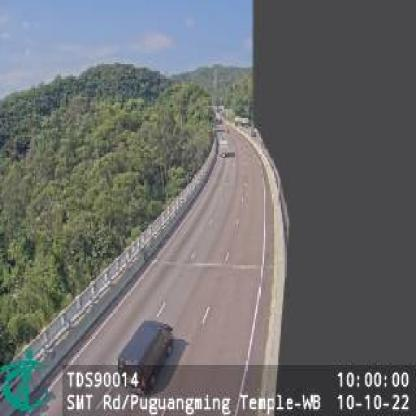Car: (115, 321, 176, 393)
Truck: (220, 138, 230, 158)
